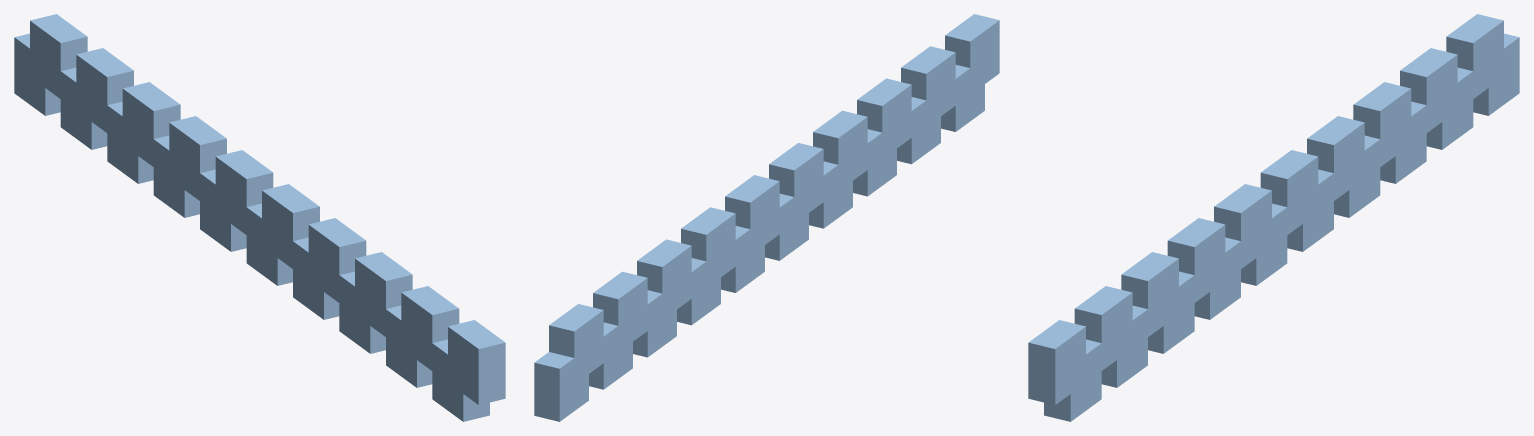
File: grass_wall_deco_big_cab.obj
3 renders of one model, left to right at view 1: azimuth 30°, elevation 25°; view 2: azimuth 150°, elevation 25°; view 3: azimuth 330°, elevation 25°, orthographic. The views are drawn at different scales.
Bounding box in the file's own units: 0.1 × 0.3 × 3.
1 material, 1 textured.
